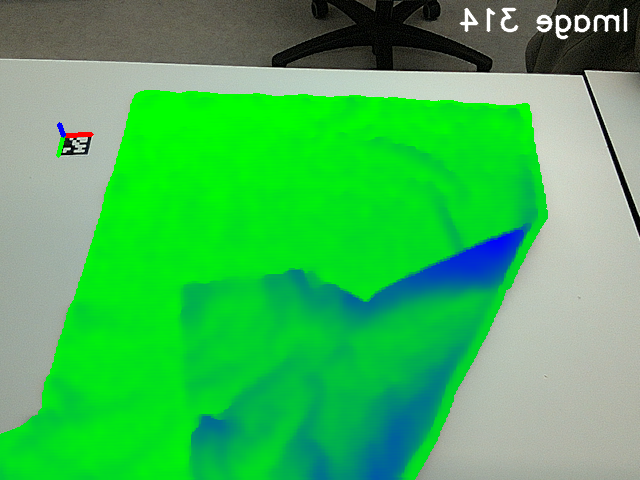V: (171, 267, 244, 335)
